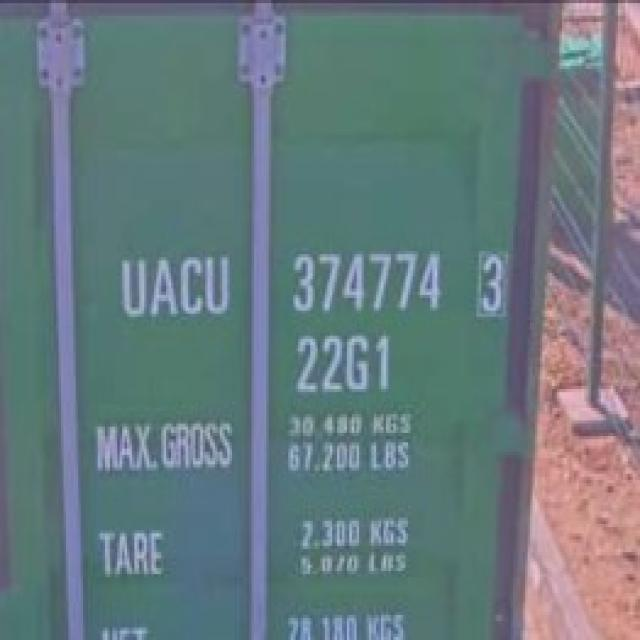dv: (473, 247, 509, 318)
owner: (112, 242, 236, 328)
serial: (286, 245, 454, 319)
size: (286, 328, 396, 400)
